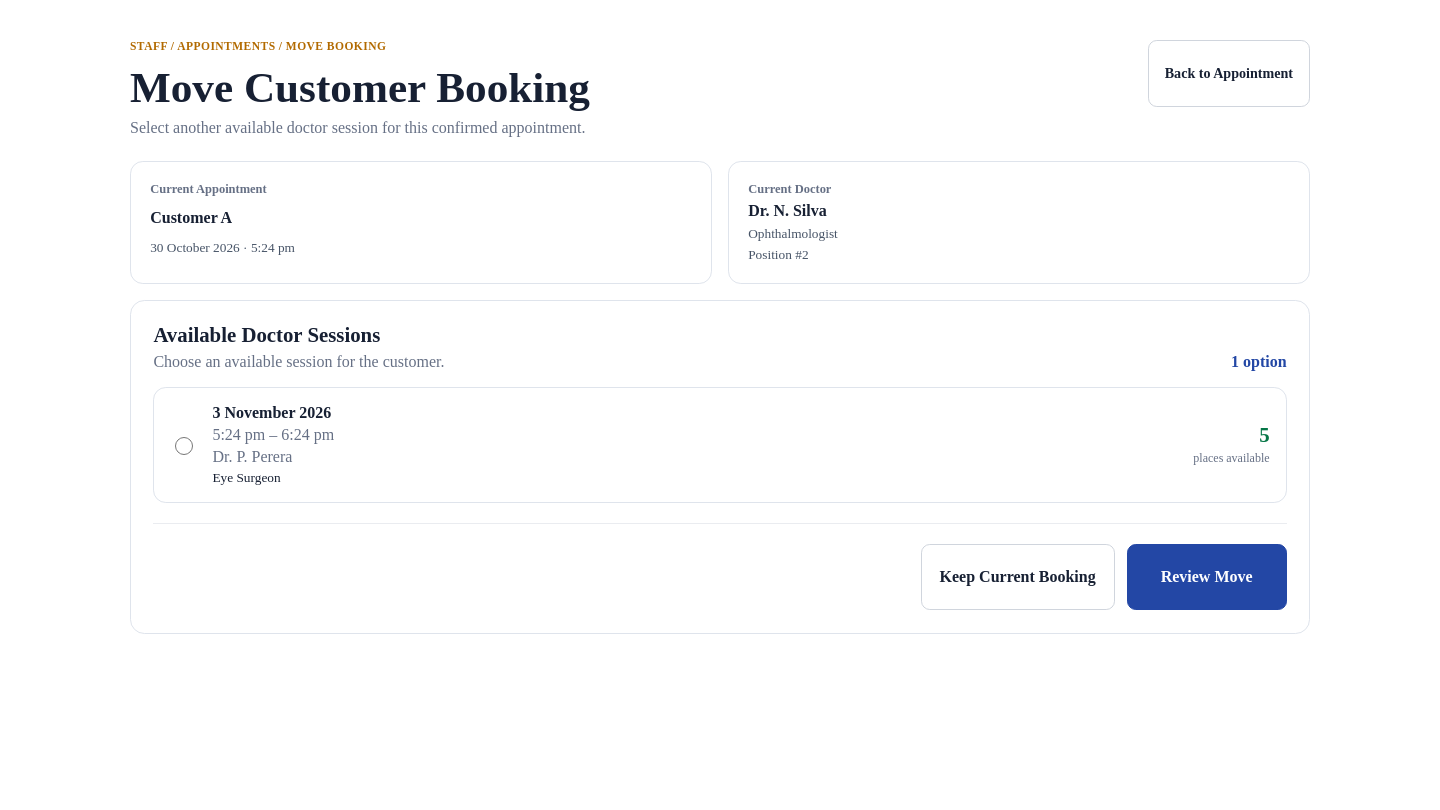
Scenario: StaffMoveAppointmentPage › shows full-session conflicts safely
The image size is (1440, 810).
Expected: the text "Dr. P. Perera" is shown, [212,448,292,464]
Click the radio button.
click(184, 446)  # box [175,437,193,455]
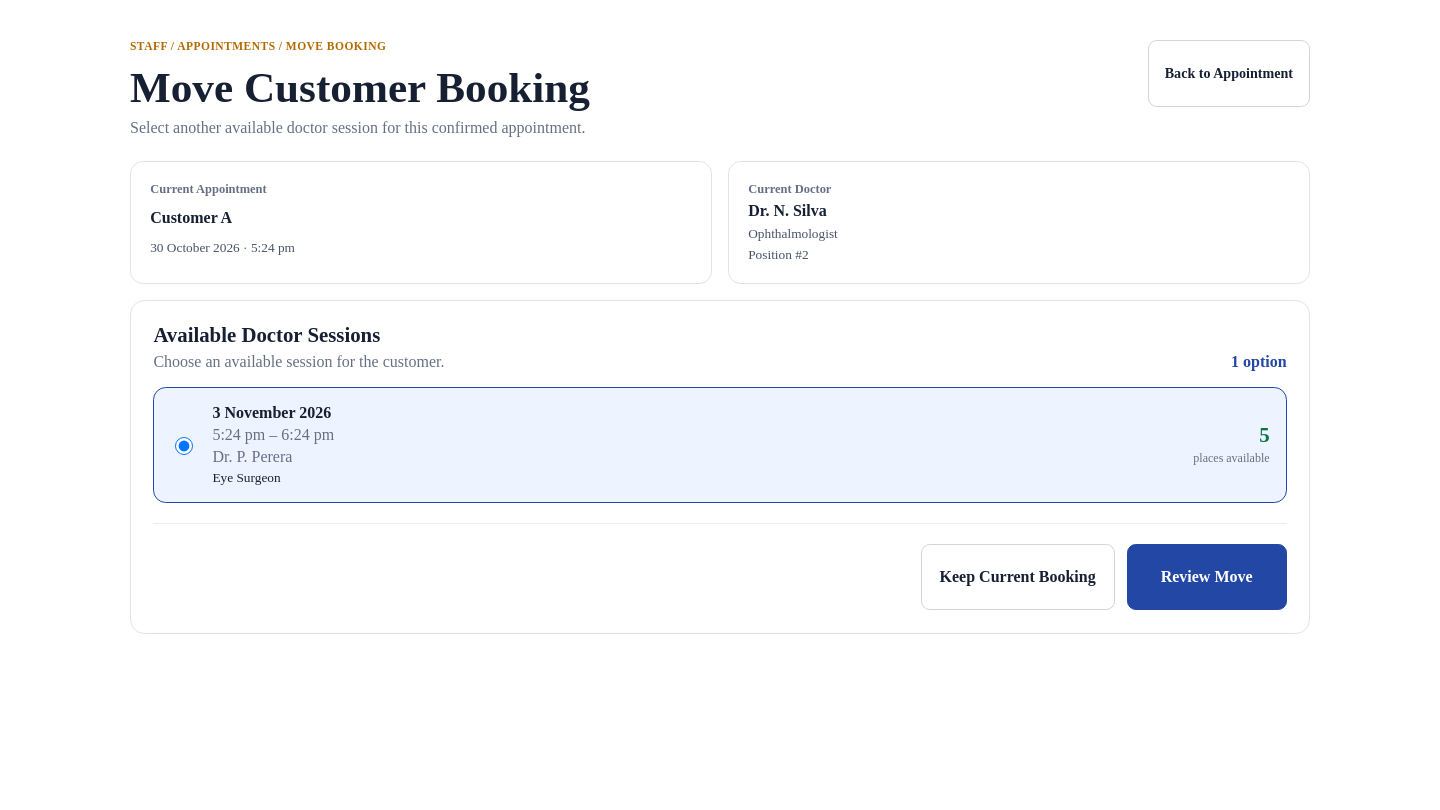
Click the button "Review Move".
click(1207, 577)  # box [1127,544,1287,610]
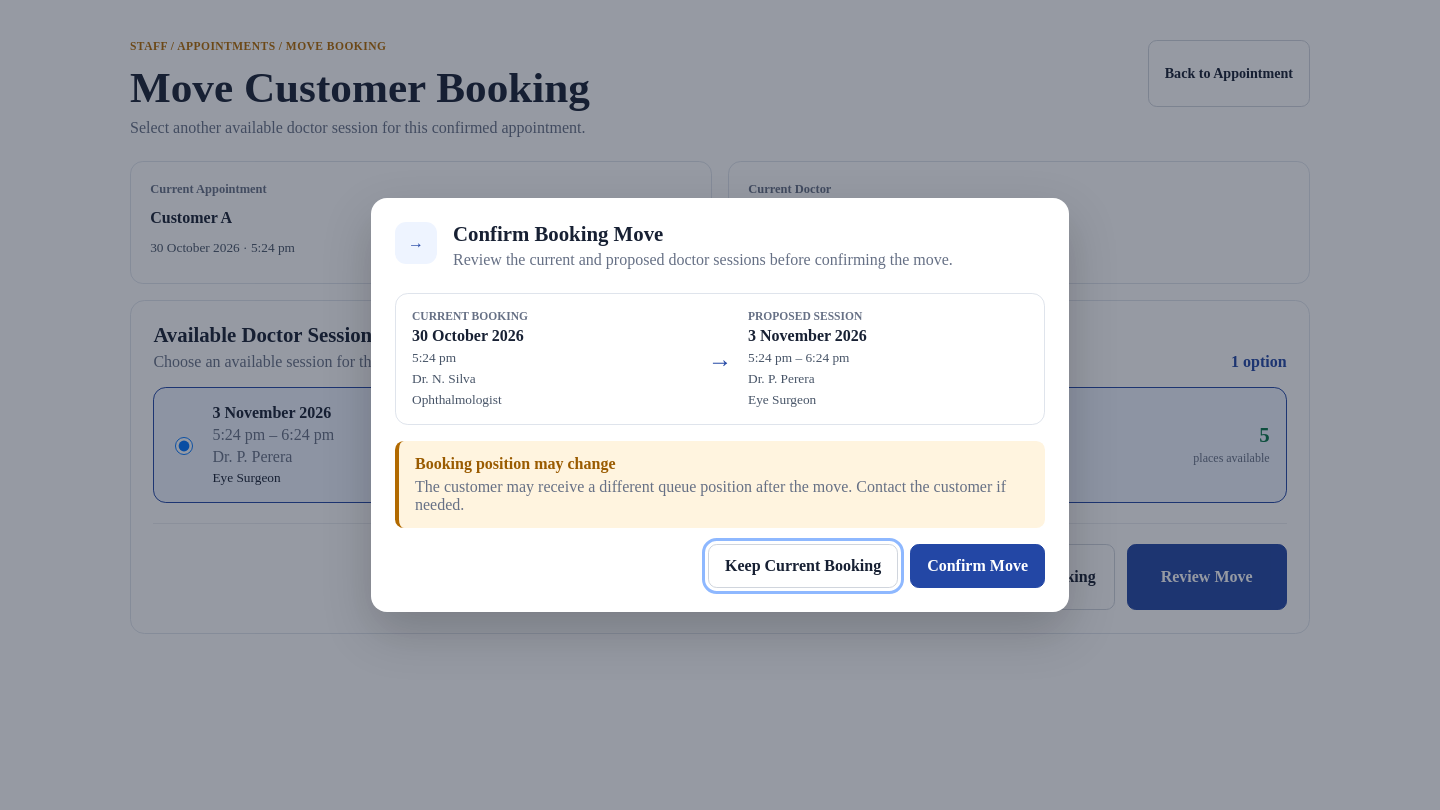
Click the button "Confirm Move".
click(978, 566)  # box [910,544,1045,588]
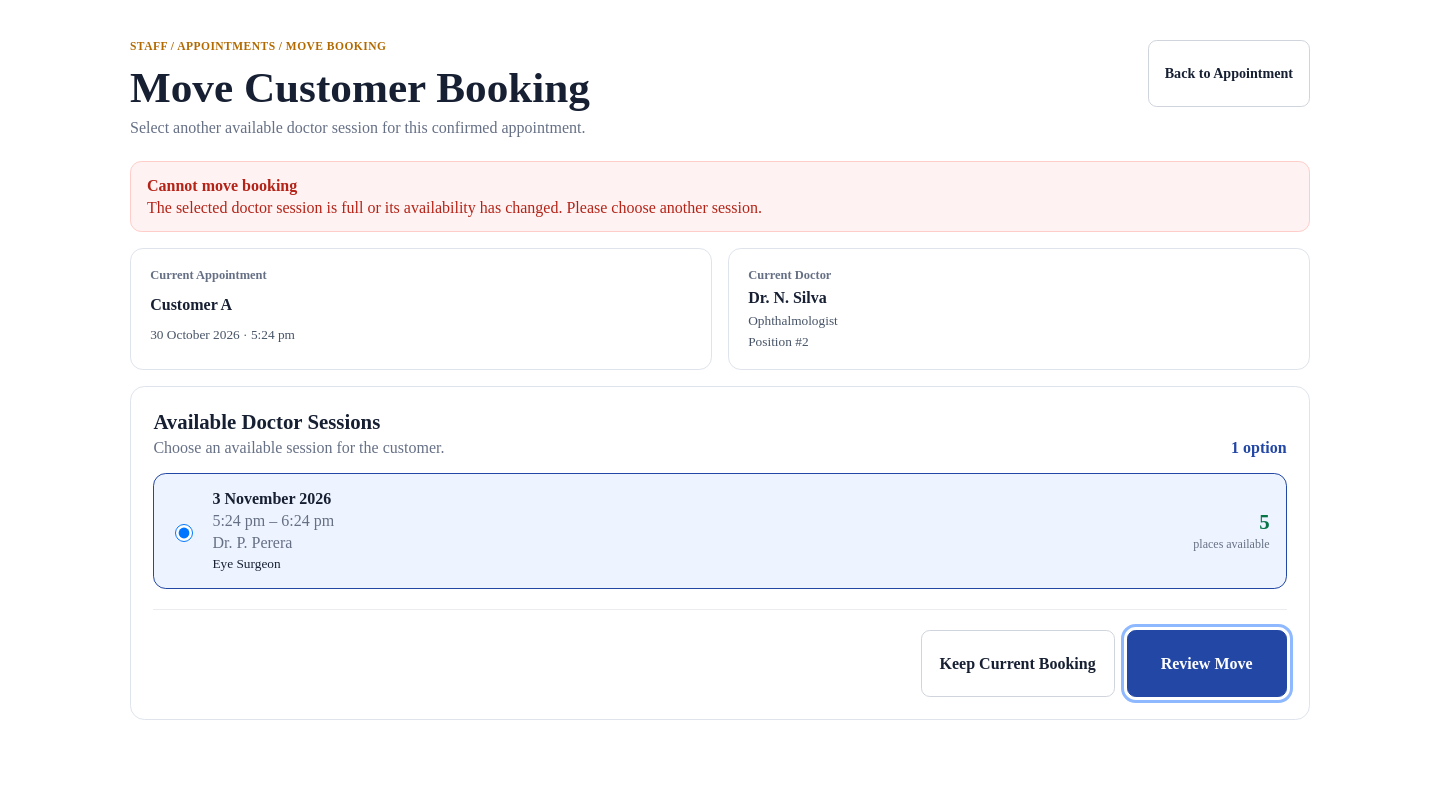
Result: the message shows "selected doctor session is full" at [147,199,762,216]
